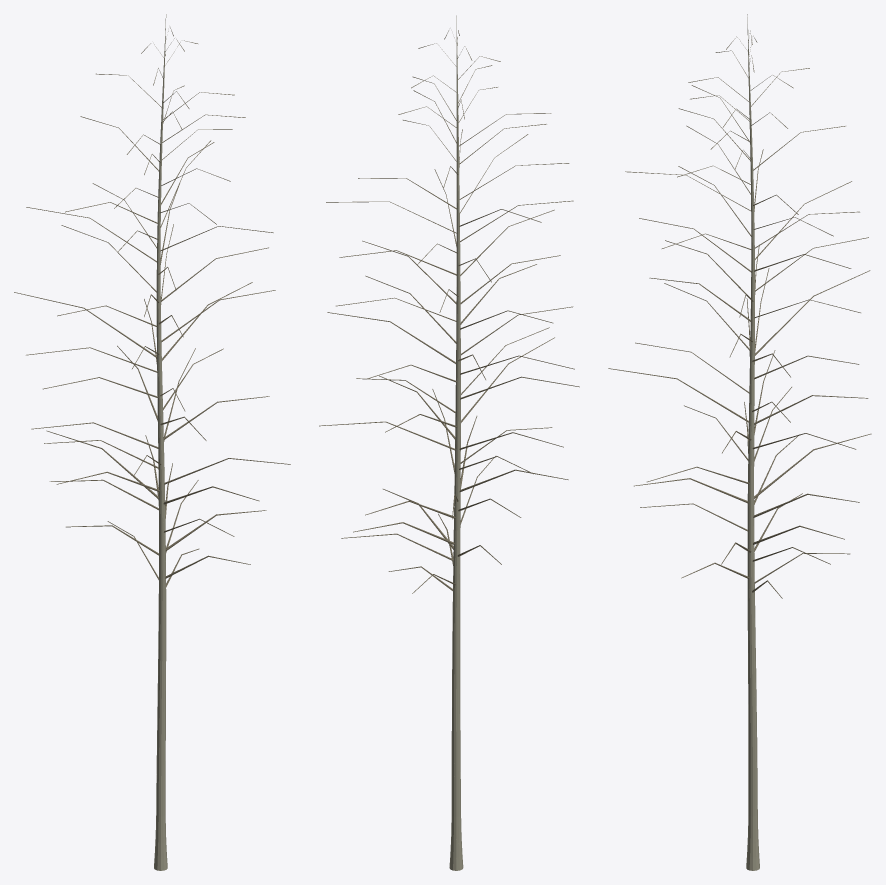
3 renders of one model, left to right at view 1: azimuth 30°, elevation 25°; view 2: azimuth 150°, elevation 25°; view 3: azimuth 270°, elevation 25°, orthographic.
Parts seen in each view (by area): view 1: tree_node; view 2: tree_node; view 3: tree_node.
Boxes of the visible parts, x1=… form: tree_node: x1=14, y1=14, x2=290, y2=870; tree_node: x1=319, y1=15, x2=579, y2=870; tree_node: x1=608, y1=14, x2=871, y2=870.
Size of the model in its own units: 5.24 by 5.02 by 18.
